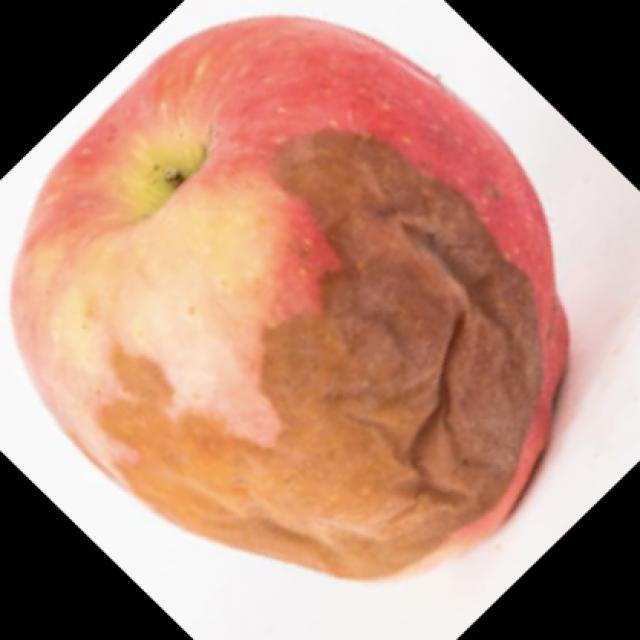Rotten: (64, 42, 578, 575)
